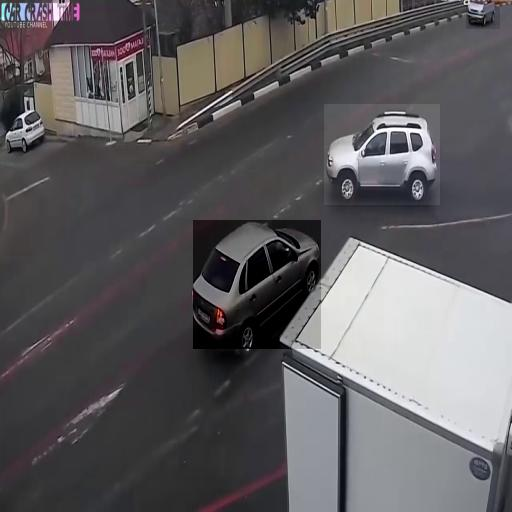小汽车: (194, 220, 322, 349), (324, 104, 440, 205), (7, 111, 46, 151), (466, 0, 500, 29)
